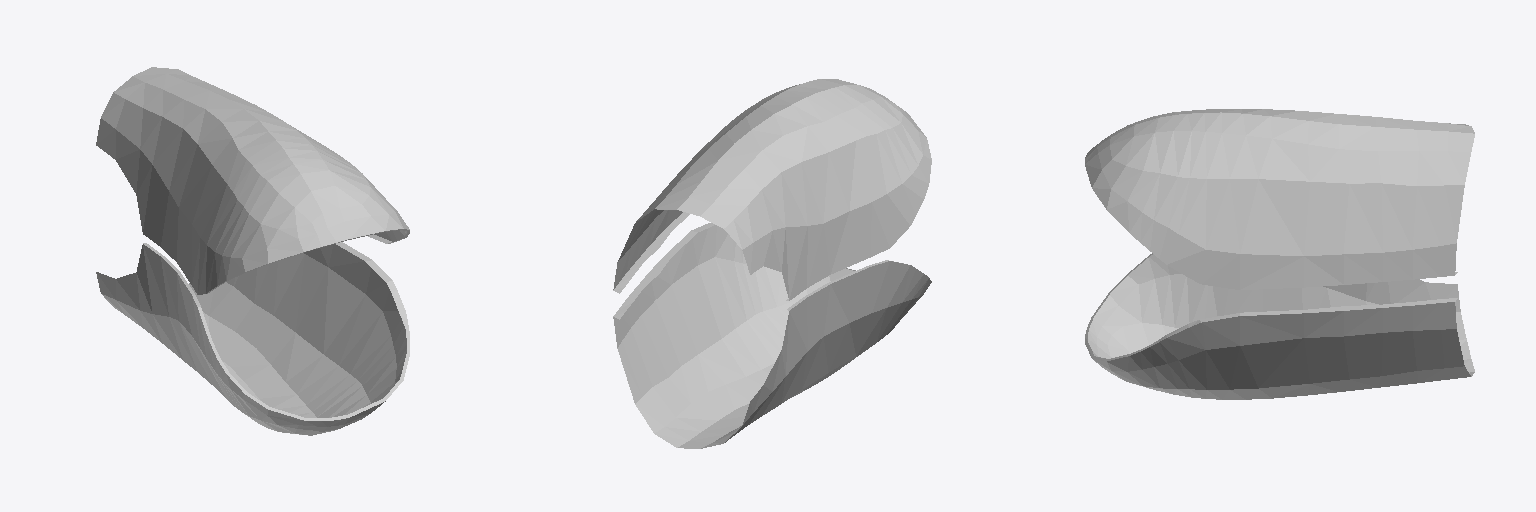
Rendered from HipPitch_milky.obj.
The picture shows the model from 3 angles: view 1: azimuth 30°, elevation 25°; view 2: azimuth 150°, elevation 25°; view 3: azimuth 270°, elevation 25°; orthographic projection.
Size of the model in its own units: 1.74 by 2.38 by 3.02.